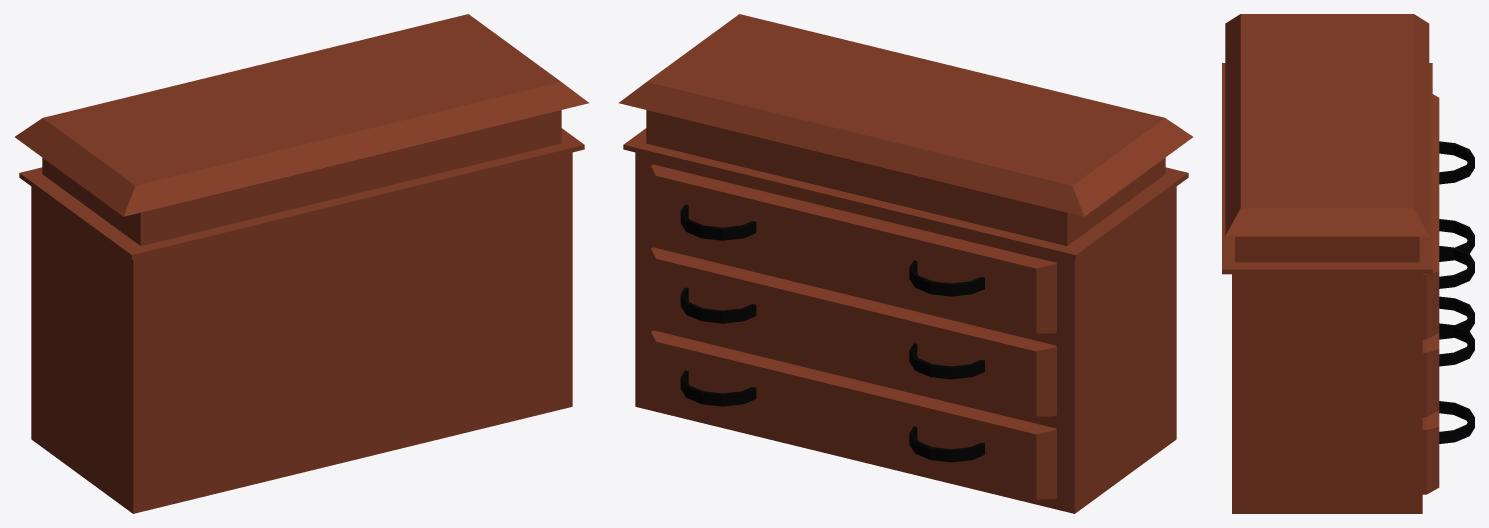
File: Dresser_02.gltf
3 views of the same model, side by side, from view 1: azimuth 30°, elevation 25°; view 2: azimuth 150°, elevation 25°; view 3: azimuth 270°, elevation 25° (orthographic). The views are drawn at different scales.
Visible parts, largest first — view 1: Dresser_02; view 2: Dresser_02; view 3: Dresser_02.
Boxes of the visible parts, x1=… form: Dresser_02: x1=15, y1=14, x2=589, y2=513; Dresser_02: x1=618, y1=14, x2=1192, y2=513; Dresser_02: x1=1222, y1=14, x2=1474, y2=513.
Size of the model in its own units: 3.5 by 2.32 by 1.76.
